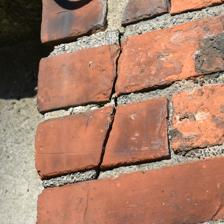Crack: (44, 14, 86, 169)
